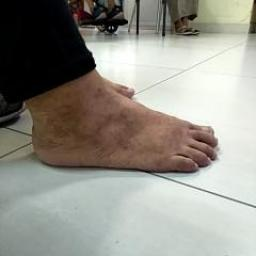Lateral View -Right Foot-: (12, 50, 234, 194)
